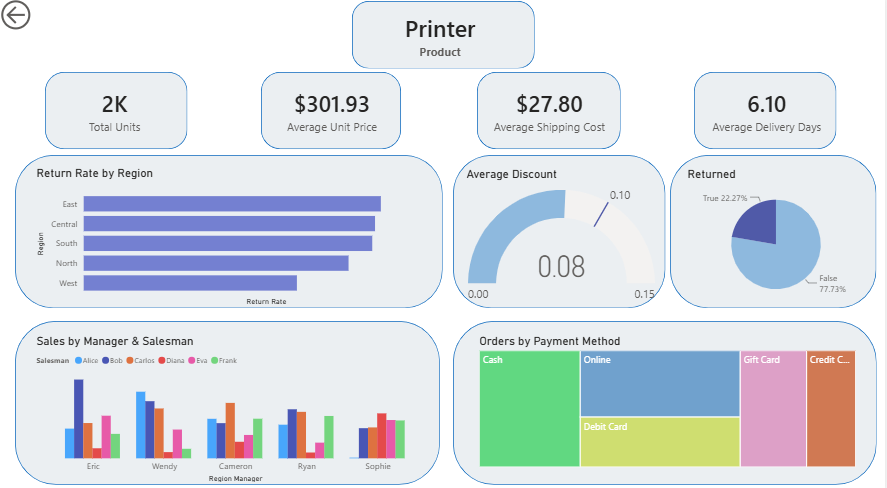

The page's visual inventory and layout, read from the dashboard file:
{"tool":"powerbi","page":{"name":"Drill","canvas":[1280,720],"ordinal":1},"visuals":[{"type":"group","id":"g1","title":"Background","box":[25.6,10.2,1240.7,697.3],"z":0},{"type":"shape","box":[25.6,232.4,615.8,220.5],"z":0,"group":"g1"},{"type":"actionButton","box":[0,0,54.1,60],"z":1000},{"type":"shape","box":[656.2,471.6,610.1,235.8],"z":1000,"group":"g1"},{"type":"shape","box":[968.9,232.4,297.4,220.5],"z":2000,"group":"g1"},{"type":"shape","box":[656.2,232.4,305.9,220.5],"z":3000,"group":"g1"},{"type":"treemap","title":"Orders by Payment Method","fields":{"Group":["product_sales.payment_method"],"Values":["Sum(product_sales.sales)"]},"box":[689.7,489.8,551.6,196.5],"z":3000},{"type":"shape","box":[690.4,112.7,206.8,111.1],"z":4000,"group":"g1"},{"type":"shape","box":[379.4,112.7,201.7,111.1],"z":5000,"group":"g1"},{"type":"shape","box":[510.7,10.2,263.2,97.4],"z":6000,"group":"g1"},{"type":"shape","box":[68.3,112.7,205.1,111.1],"z":7000,"group":"g1"},{"type":"shape","box":[1003.1,112.7,205.1,111.1],"z":8000,"group":"g1"},{"type":"clusteredColumnChart","title":"Sales by Manager & Salesman","fields":{"Category":["product_sales.region_manager"],"Y":["Sum(product_sales.sales)"],"Series":["product_sales.sales_person"]},"box":[52.4,489.4,584.1,217.7],"z":8000},{"type":"pieChart","title":"Returned","fields":{"Category":["product_sales.returned"],"Y":["CountNonNull(product_sales.order_id)"]},"box":[989.5,248.8,264.9,204.1],"z":8031},{"type":"gauge","title":"Average Discount","fields":{"Y":["Avg(product_sales.discount)"],"MinValue":["Min(product_sales.discount)"],"MaxValue":["Max(product_sales.discount)1"],"TargetValue":["Median(product_sales.discount)2"]},"box":[670.6,249.5,283.6,203.3],"z":8062},{"type":"barChart","title":"Return Rate by Region","fields":{"Category":["product_sales.region"],"Y":["_Measures.Return Rate"]},"box":[51.9,247.2,604.3,205.6],"z":8125},{"type":"cardVisual","fields":{"Data":["Sum(product_sales.quantity)","Avg(product_sales.unit_price)","Avg(product_sales.shipping_cost)","Avg(product_sales.delivery_days)"]},"box":[0,112.8,1280,111.1],"z":8250},{"type":"cardVisual","title":"Title","fields":{"Data":["Min(product_sales.product)"]},"box":[511.1,11.3,254.6,96.6],"z":8500},{"type":"shape","box":[26.3,471.2,611.8,235.8],"z":9000,"group":"g1"}]}

Visuals, with their boxes in screenshot pixels (x1, y1, x2, y2), scaled from the page's 1280x720 canvas onto the 887x488 screenshot:
"Background" group: [x1=18, y1=7, x2=878, y2=480]
shape: [x1=18, y1=158, x2=444, y2=307]
actionButton: [x1=0, y1=0, x2=37, y2=41]
shape: [x1=455, y1=320, x2=878, y2=479]
shape: [x1=671, y1=158, x2=878, y2=307]
shape: [x1=455, y1=158, x2=667, y2=307]
"Orders by Payment Method" treemap: [x1=478, y1=332, x2=860, y2=465]
shape: [x1=478, y1=76, x2=622, y2=152]
shape: [x1=263, y1=76, x2=403, y2=152]
shape: [x1=354, y1=7, x2=536, y2=73]
shape: [x1=47, y1=76, x2=189, y2=152]
shape: [x1=695, y1=76, x2=837, y2=152]
"Sales by Manager & Salesman" clusteredColumnChart: [x1=36, y1=332, x2=441, y2=479]
"Returned" pieChart: [x1=686, y1=169, x2=869, y2=307]
"Average Discount" gauge: [x1=465, y1=169, x2=661, y2=307]
"Return Rate by Region" barChart: [x1=36, y1=168, x2=455, y2=307]
cardVisual - Sum(product_sales.quantity) x Avg(product_sales.unit_price): [x1=0, y1=76, x2=886, y2=152]
"Title" cardVisual: [x1=354, y1=8, x2=531, y2=73]
shape: [x1=18, y1=319, x2=442, y2=479]
